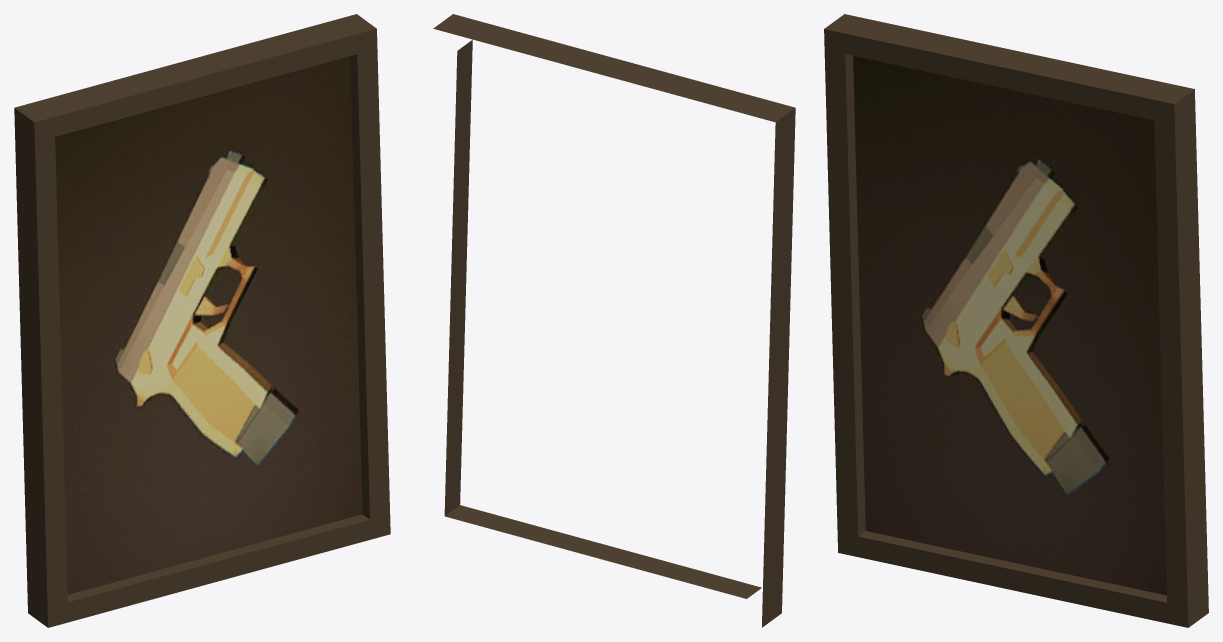
Rendered from TallPainting 4.glb.
3 renders of one model, left to right at view 1: azimuth 30°, elevation 25°; view 2: azimuth 150°, elevation 25°; view 3: azimuth 330°, elevation 25°, orthographic. The views are drawn at different scales.
Parts seen in each view (by area): view 1: Cube.001, Cube; view 2: Cube; view 3: Cube.001, Cube.
Part boxes in pixels (<box>): Cube.001: <box>55,56,362,594</box>; Cube: <box>14,14,390,627</box>; Cube: <box>433,14,795,627</box>; Cube.001: <box>853,56,1166,595</box>; Cube: <box>824,14,1208,627</box>.
Size of the model in its own units: 0.8044 by 1.12 by 0.0786.
Materials: 2 (2 with a texture image).
